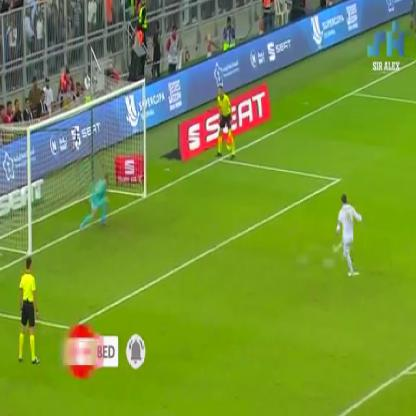penalty kick: (28, 96, 387, 281)
